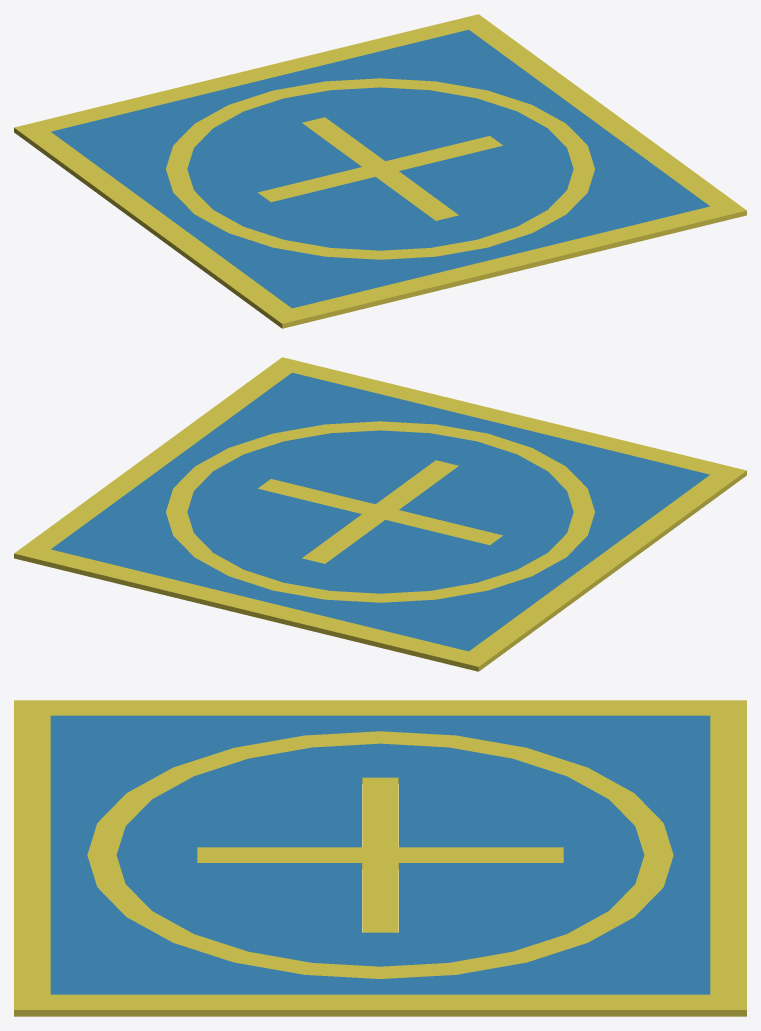
The picture shows the model from 3 angles, top to bottom: view 1: azimuth 30°, elevation 25°; view 2: azimuth 150°, elevation 25°; view 3: azimuth 270°, elevation 25°; orthographic projection. The views are drawn at different scales.
Visible parts, largest first — view 1: Mesh_Mesh_head_geo.001_lambert2SG.001; view 2: Mesh_Mesh_head_geo.001_lambert2SG.001; view 3: Mesh_Mesh_head_geo.001_lambert2SG.001.
Boxes of the visible parts, x1,y1,x2,y2 form: Mesh_Mesh_head_geo.001_lambert2SG.001: (14,14,746,328); Mesh_Mesh_head_geo.001_lambert2SG.001: (14,357,746,671); Mesh_Mesh_head_geo.001_lambert2SG.001: (14,700,746,1016).
Size of the model in its own units: 1 by 0.01 by 1.
